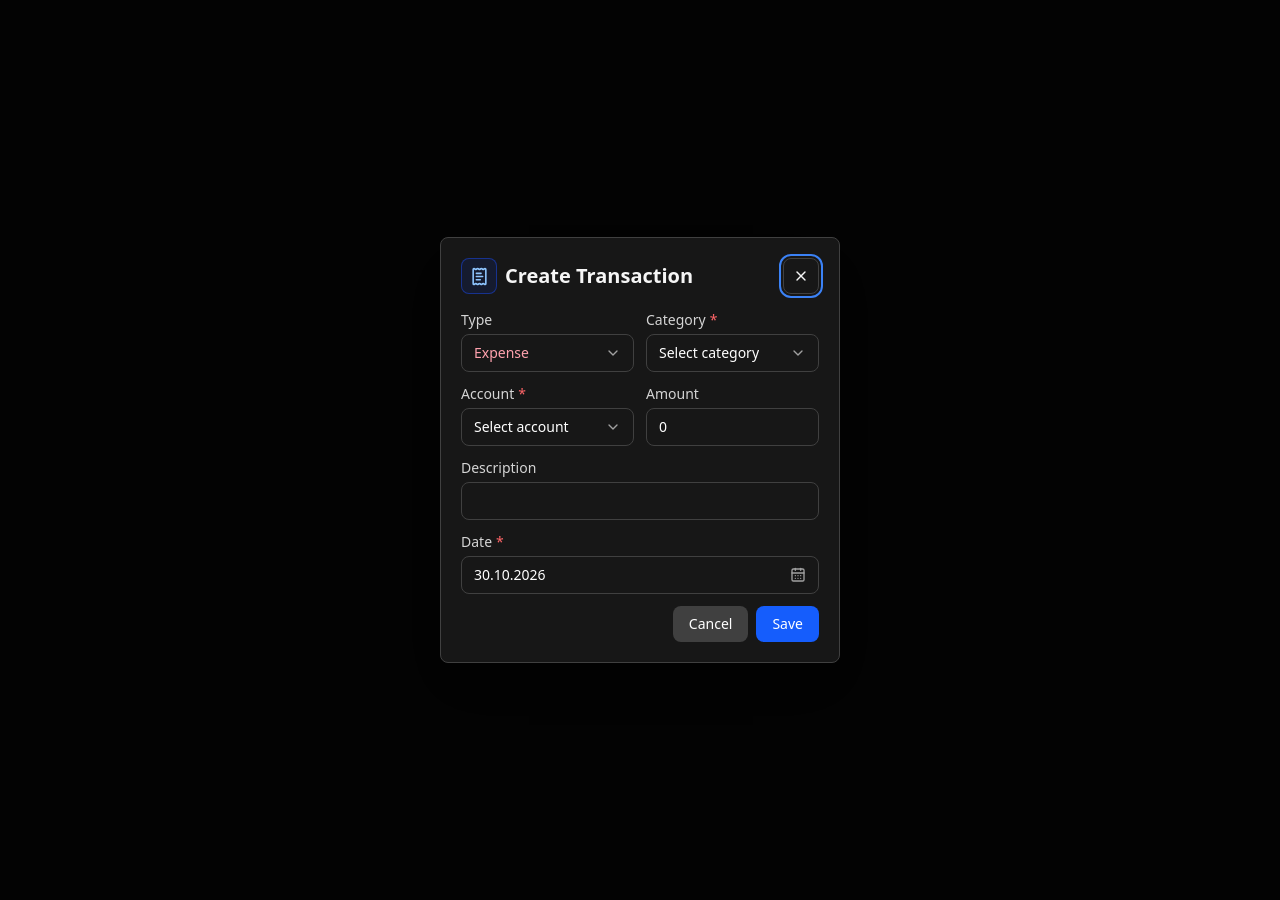
it: internal transaction modal category fields › shows an optional channel selector for Advertising expenses
The image size is (1280, 900).
What coordinates should you click on to do the following:
click the button "Select category"
I would click on:
 (732, 353)
Its box is [646,334,819,372].
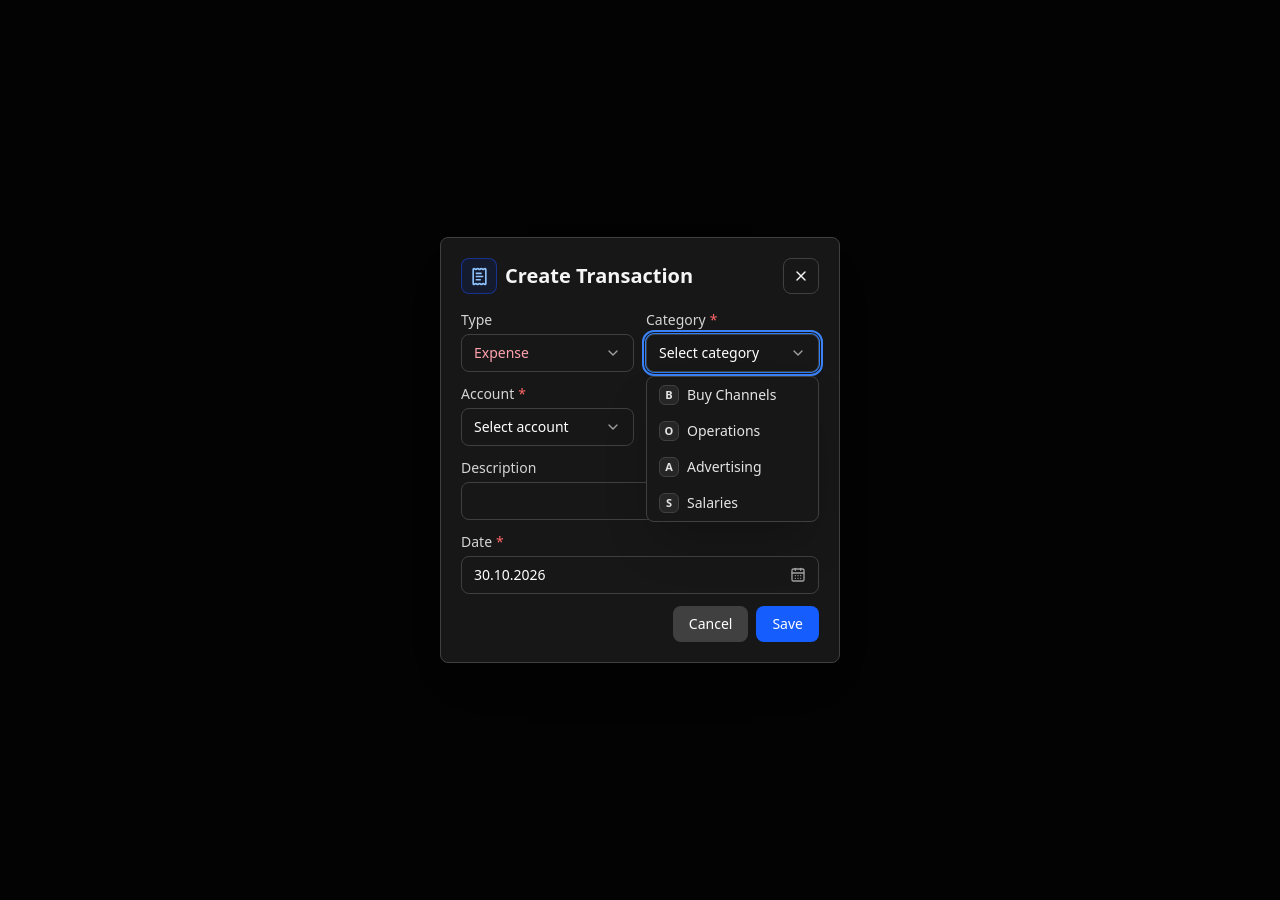
What coordinates should you click on to do the following:
click the button "A Advertising"
I would click on:
 (732, 467)
Its box is [647,449,818,485].
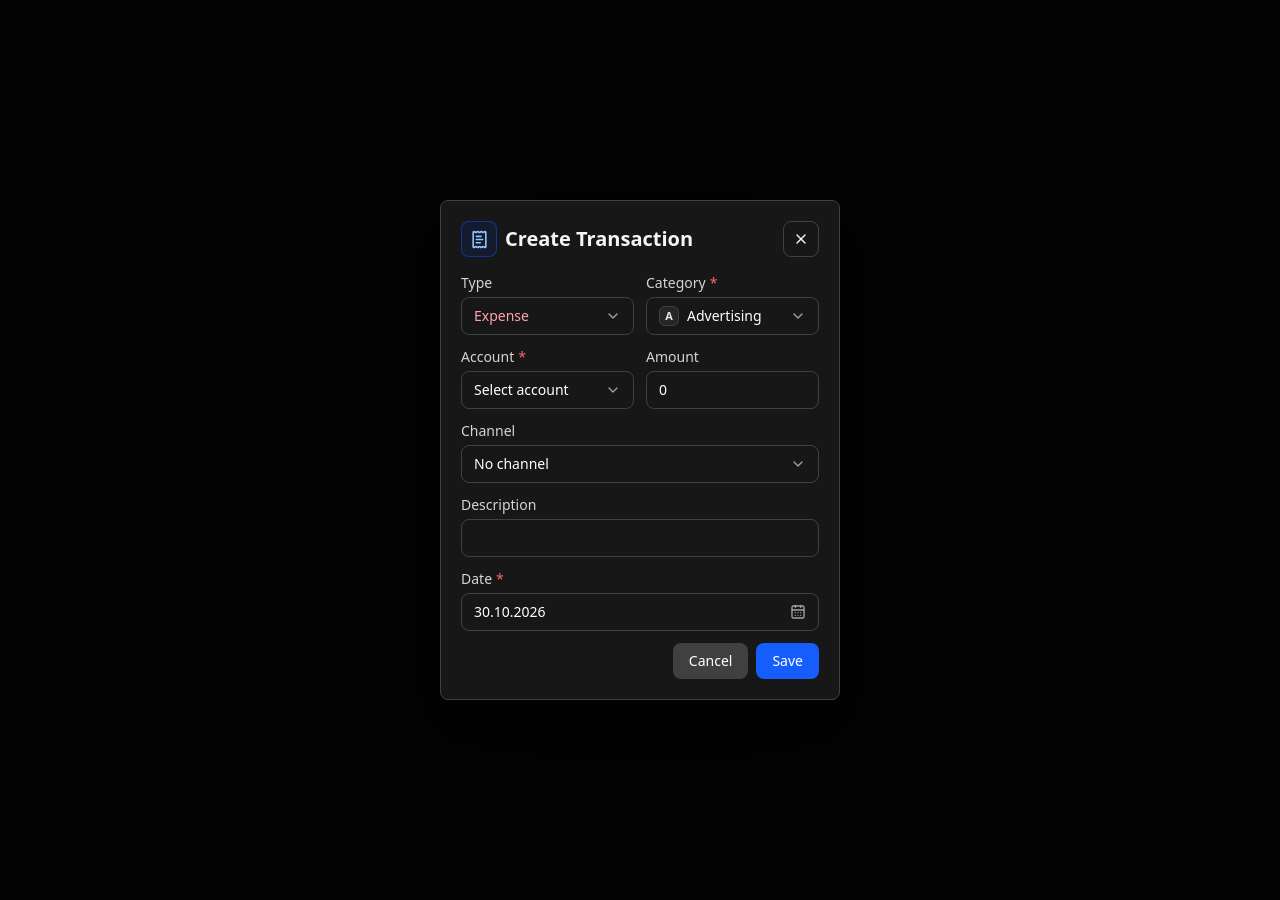
expect the button "No channel" is shown: met, box [461,445,819,483]
